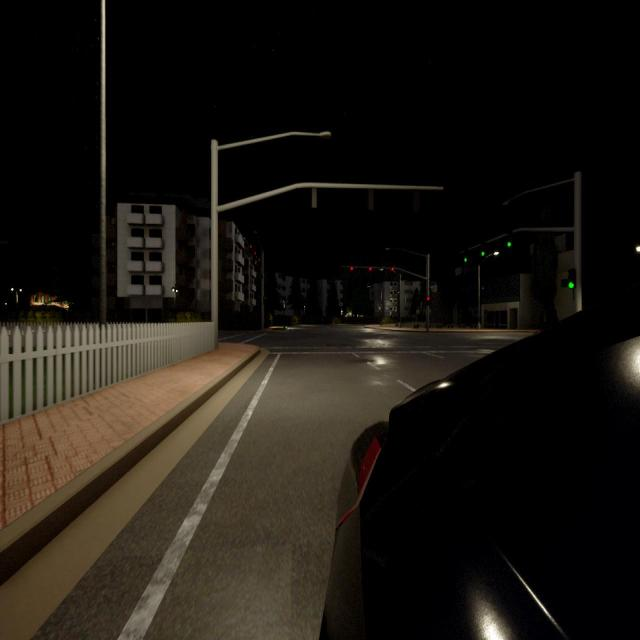Vehicle: (322, 288, 640, 640)
traffic_light: (568, 268, 576, 288), (311, 187, 317, 208), (507, 233, 512, 247), (482, 244, 486, 257), (426, 296, 429, 306), (464, 252, 467, 262), (263, 297, 266, 305), (391, 267, 394, 272), (350, 266, 353, 270), (369, 267, 372, 271), (249, 245, 252, 248), (258, 258, 260, 262), (254, 252, 256, 255)
